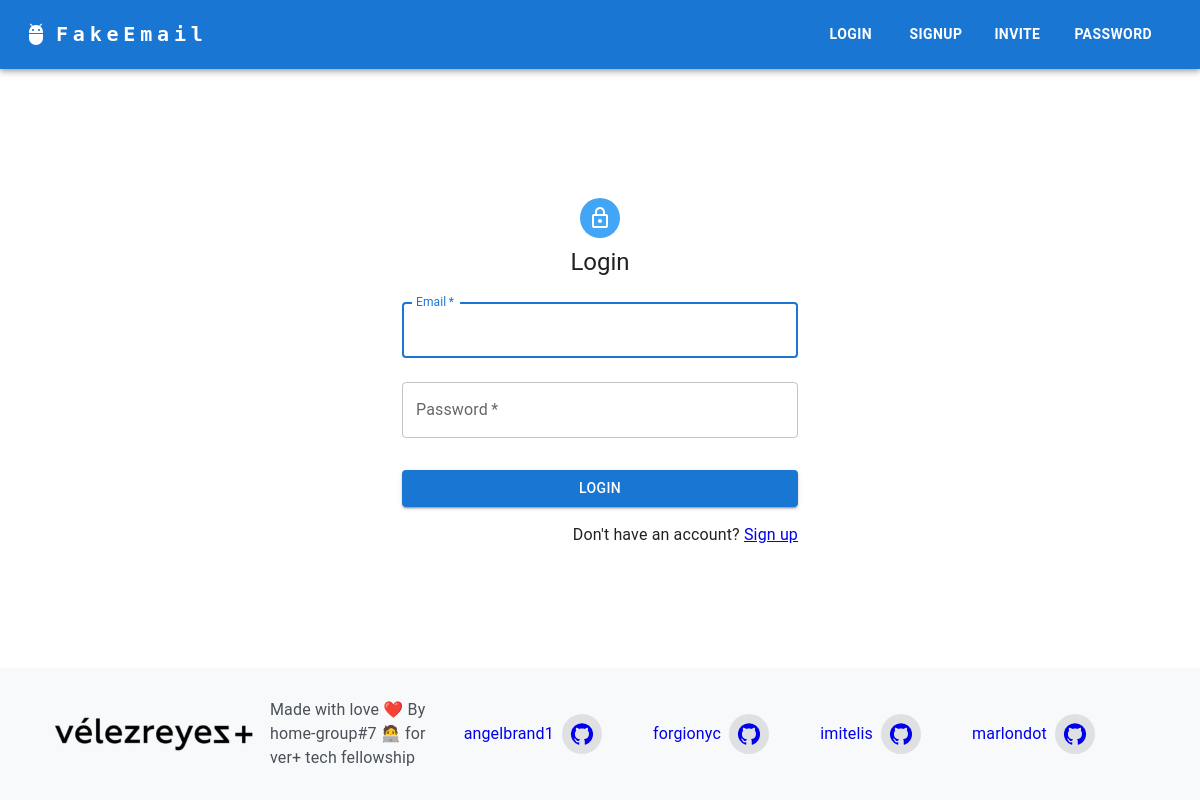
Test: Login tests › displays error messages for short inputs
Type "invalid" into the field named "email" at x=600, y=330, box x1=402 y1=302 x2=798 y2=358
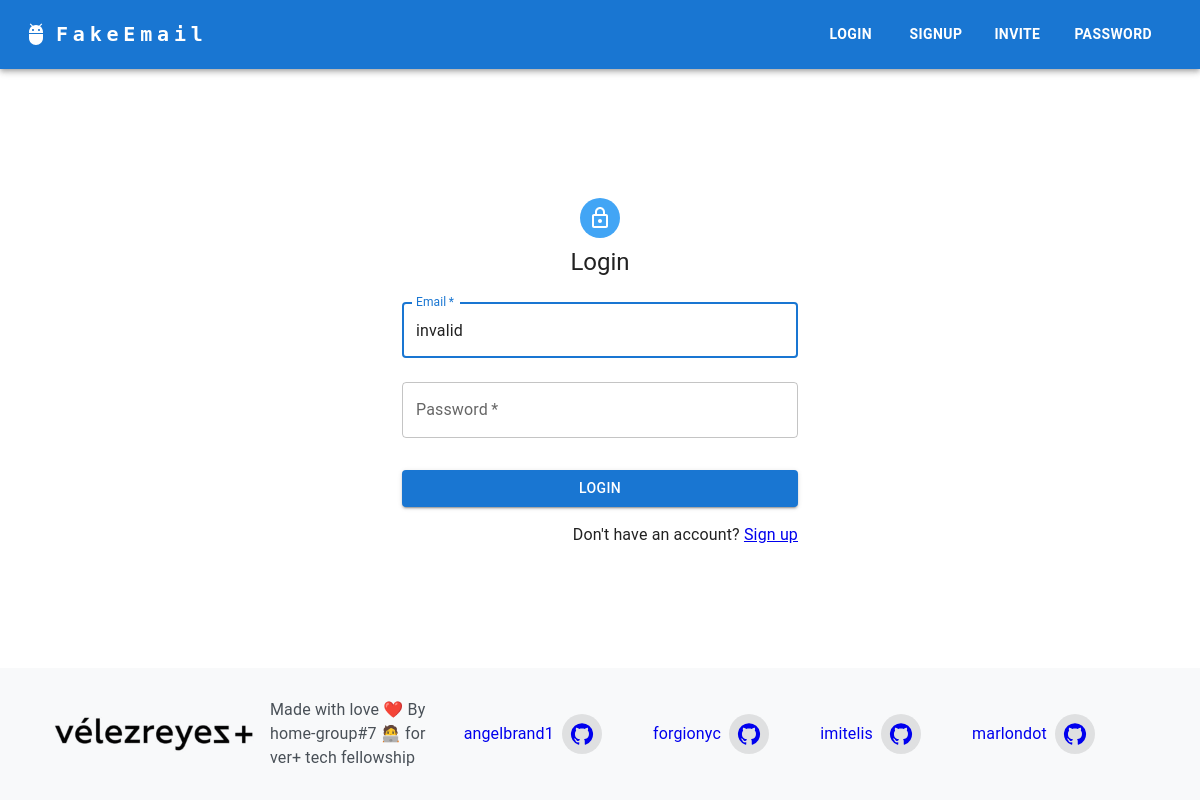
Type "short" into the password field named "password" at x=600, y=410, box x1=402 y1=382 x2=798 y2=438
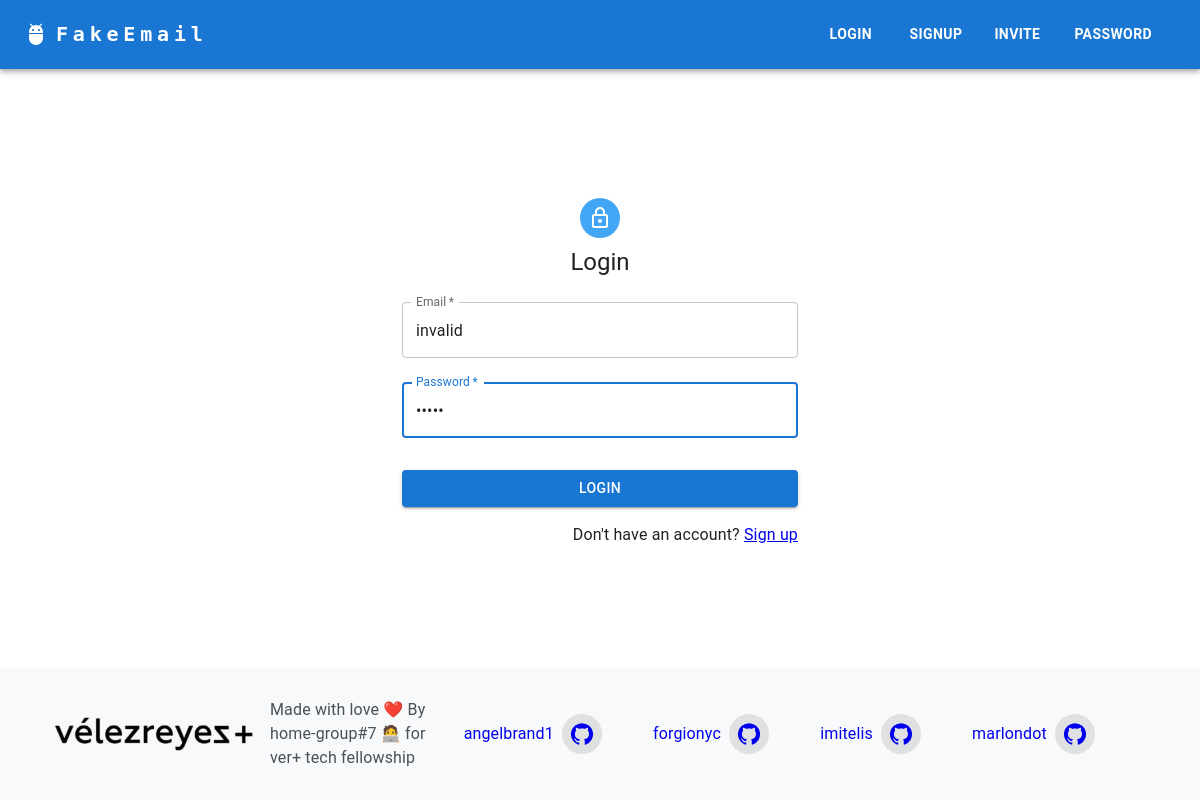
Click the button with id "loginButton" at x=600, y=489, box x1=402 y1=470 x2=798 y2=507
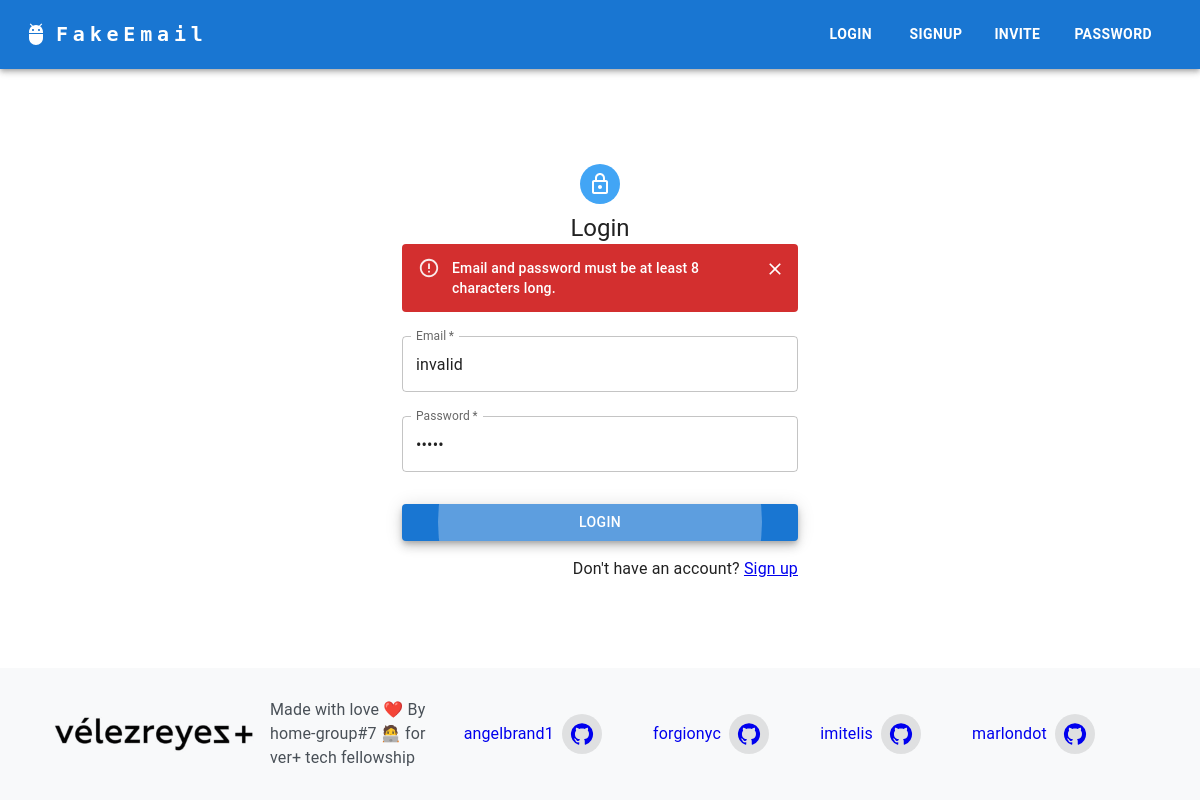
Check: the text "Email and password must be at least 8 characters long." is shown, box x1=452 y1=260 x2=699 y2=296
